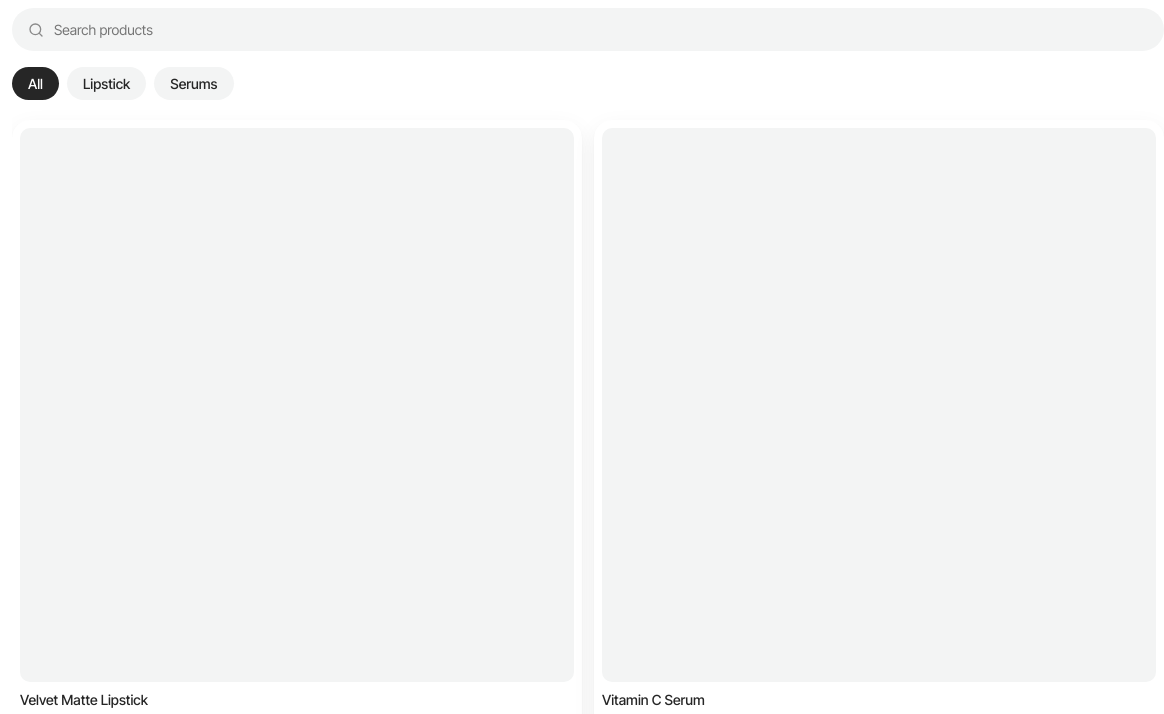
Test: CatalogHomeScreen › narrows the list when a category is selected
Expected: the text "Velvet Matte Lipstick" is shown, left=20, top=691, right=148, bottom=708
Click the button "Serums".
click(194, 84)  # box left=154, top=67, right=234, bottom=100
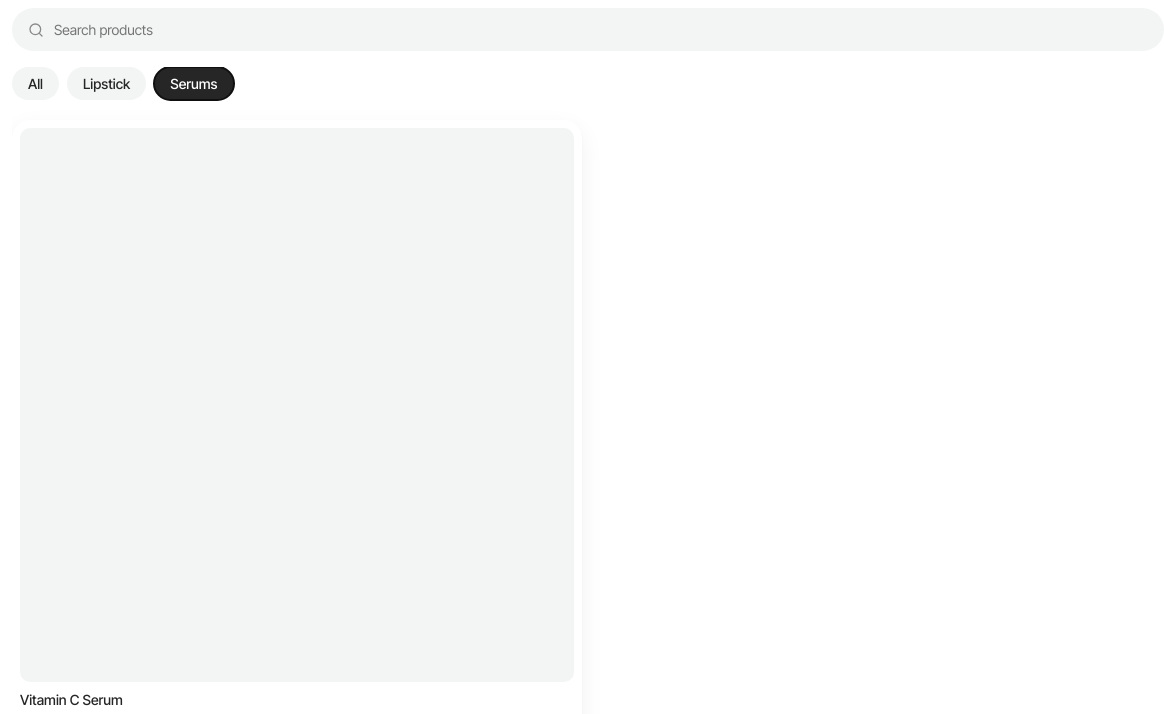
Expected: the text "Vitamin C Serum" is shown, left=20, top=691, right=123, bottom=708
Now the button "Velvet Matte Lipstick" is gone
